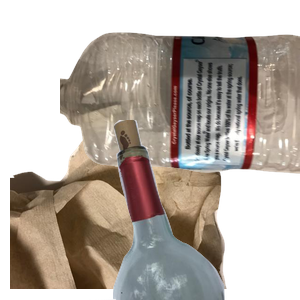cardboard: (77, 79, 251, 227)
glass: (89, 120, 300, 300)
plastic: (60, 30, 300, 196)
trash: (10, 120, 229, 300)
